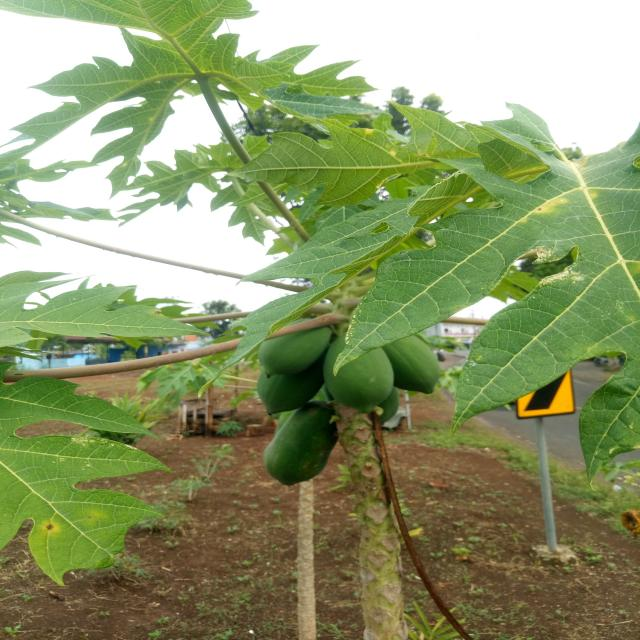Pepaya unrippen: (264, 412, 340, 486), (260, 310, 330, 376), (323, 343, 395, 406), (395, 338, 445, 395), (258, 382, 320, 412)
